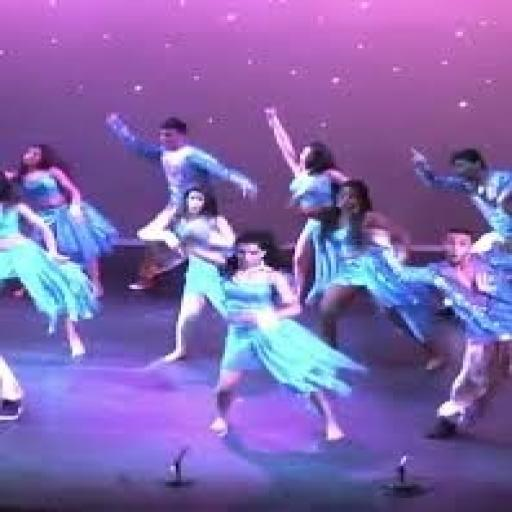dancing: (46, 47, 512, 430)
